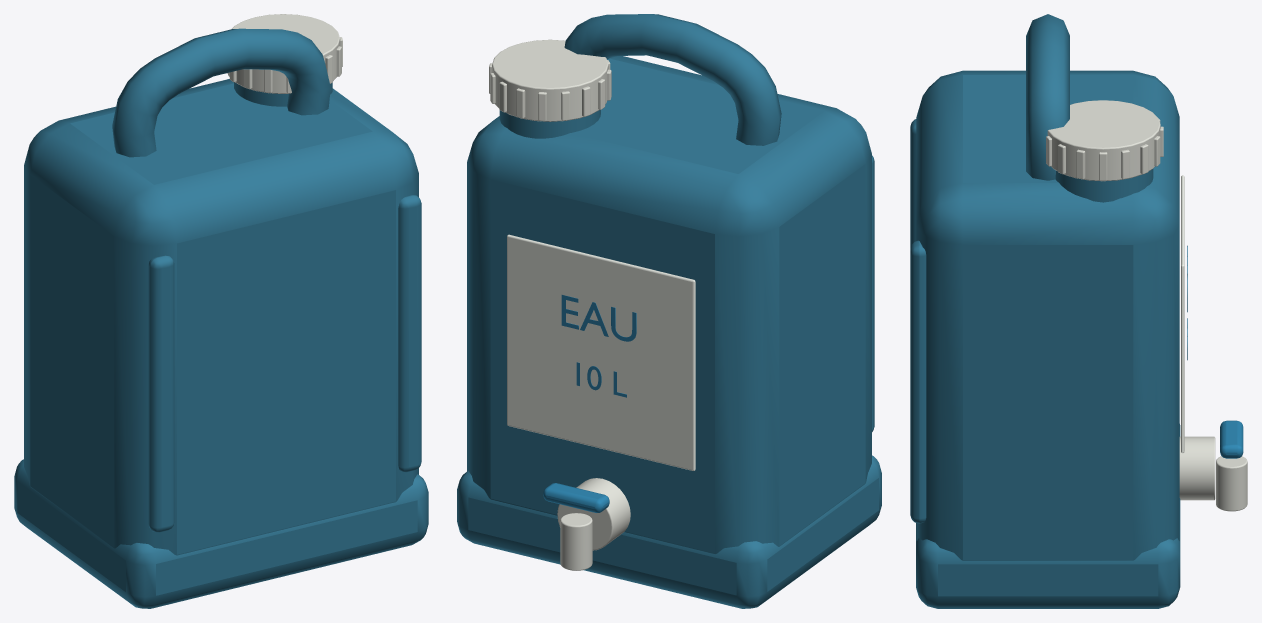
File: water_canister.glb
3 renders of one model, left to right at view 1: azimuth 30°, elevation 25°; view 2: azimuth 150°, elevation 25°; view 3: azimuth 270°, elevation 25°, orthographic. The views are drawn at different scales.
Visible parts, largest first — view 1: water_canister_render_mesh; view 2: water_canister_render_mesh; view 3: water_canister_render_mesh.
Part boxes in pixels (x1,y1,x2,y2): water_canister_render_mesh: (14,14,428,608); water_canister_render_mesh: (457,14,881,608); water_canister_render_mesh: (910,14,1247,608).
Bounding box in the file's own units: 0.286 × 0.4582 × 0.2755.
